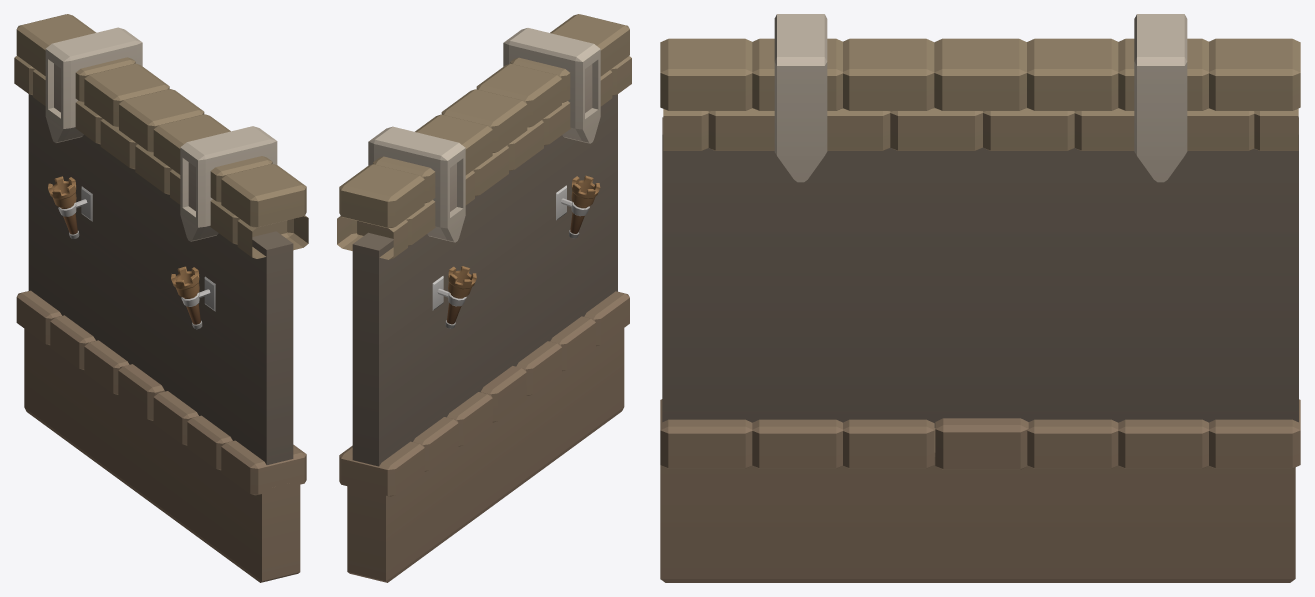
File: dungeonkit_stone_corridor_wall.fbx
The picture shows the model from 3 angles, left to right: view 1: azimuth 30°, elevation 25°; view 2: azimuth 150°, elevation 25°; view 3: azimuth 270°, elevation 25°; orthographic projection. The views are drawn at different scales.
Visible parts, largest first — view 1: Cube.016; view 2: Cube.016; view 3: Cube.016.
Boxes of the visible parts, left/top/right/bottom form: Cube.016: left=14, top=14, right=308, bottom=582; Cube.016: left=337, top=14, right=631, bottom=582; Cube.016: left=660, top=14, right=1300, bottom=582.
Bounding box in the file's own units: 150 × 634 × 688.
